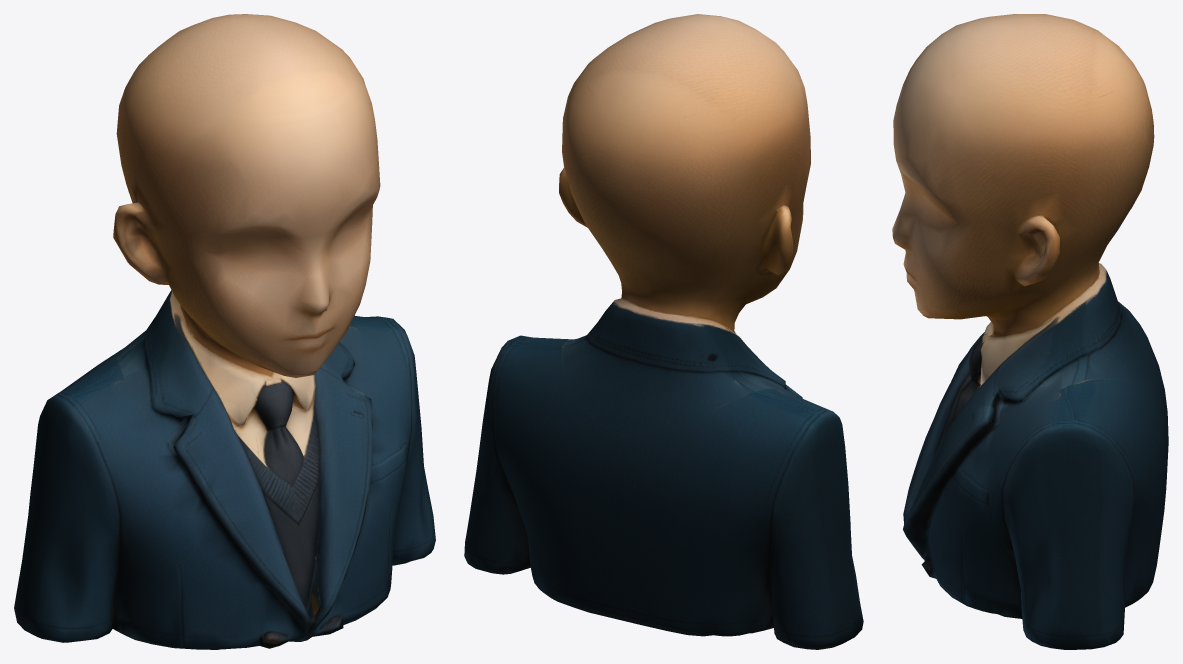
3 views of the same model, side by side, from view 1: azimuth 30°, elevation 25°; view 2: azimuth 150°, elevation 25°; view 3: azimuth 270°, elevation 25° (orthographic). The views are drawn at different scales.
Visible parts, largest first — view 1: material_0; view 2: material_0; view 3: material_0.
Boxes of the visible parts, <box> form: material_0: <box>14,14,435,649</box>; material_0: <box>464,14,863,649</box>; material_0: <box>892,14,1168,649</box>.
Size of the model in its own units: 73.57 by 100 by 46.88.
Materials: 1 (1 with a texture image).
